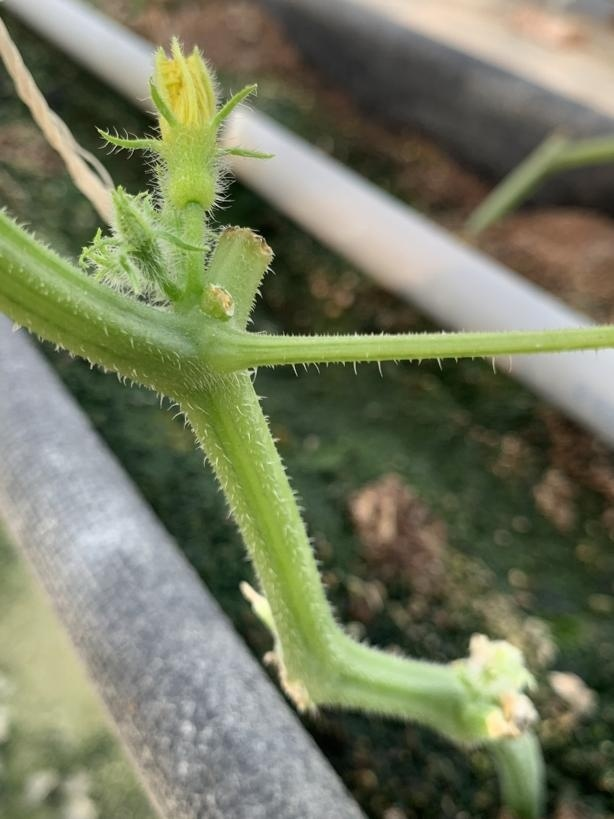bud: (128, 40, 251, 220)
